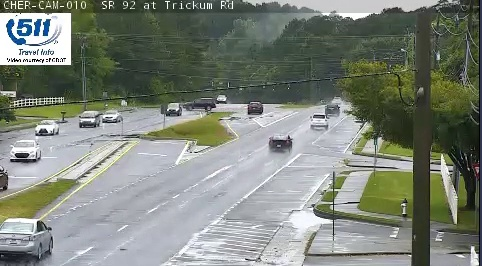car: (1, 217, 53, 254), (269, 135, 292, 151), (309, 113, 327, 128)
